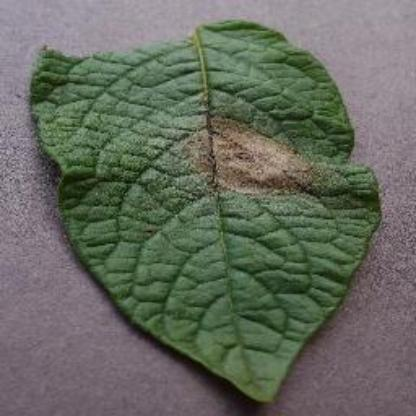Late-Blight: (23, 13, 388, 409)
